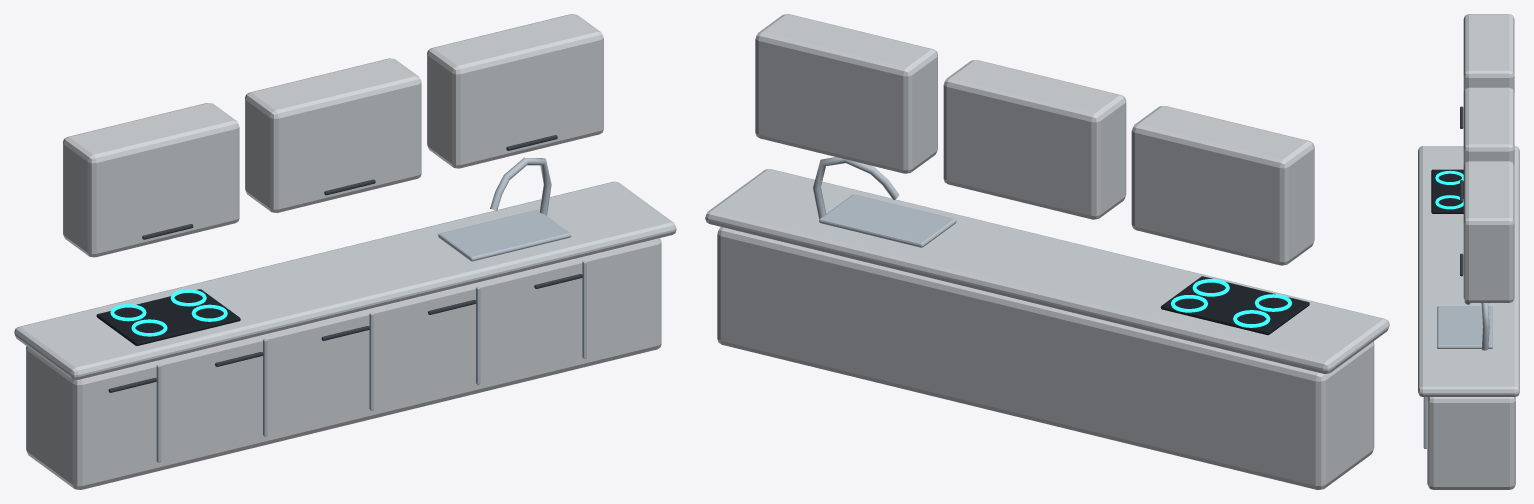
The model's file is office-kitchen.glb.
The picture shows the model from 3 angles, left to right: view 1: azimuth 30°, elevation 25°; view 2: azimuth 150°, elevation 25°; view 3: azimuth 270°, elevation 25°; orthographic projection. The views are drawn at different scales.
Parts seen in each view (by area): view 1: kitchen · Warm white, kitchen · Quartz stone, kitchen · Brushed aluminum, kitchen · Soft black, kitchen · Graphite metal, kitchen · Status cyan; view 2: kitchen · Warm white, kitchen · Quartz stone, kitchen · Brushed aluminum, kitchen · Soft black, kitchen · Status cyan; view 3: kitchen · Warm white, kitchen · Quartz stone, kitchen · Brushed aluminum, kitchen · Soft black, kitchen · Status cyan, kitchen · Graphite metal.
Part boxes in pixels (box(x1,y1,x2,y2)): kitchen · Warm white: box(26, 14, 661, 489); kitchen · Quartz stone: box(14, 181, 676, 379); kitchen · Brushed aluminum: box(156, 157, 586, 462); kitchen · Soft black: box(96, 289, 240, 345); kitchen · Graphite metal: box(108, 135, 582, 392); kitchen · Status cyan: box(110, 289, 227, 336); kitchen · Warm white: box(717, 14, 1374, 489); kitchen · Quartz stone: box(705, 169, 1389, 373); kitchen · Brushed aluminum: box(813, 157, 956, 247); kitchen · Soft black: box(1160, 276, 1309, 335); kitchen · Status cyan: box(1171, 279, 1291, 327); kitchen · Warm white: box(1427, 14, 1515, 489); kitchen · Quartz stone: box(1418, 146, 1519, 396); kitchen · Brushed aluminum: box(1423, 301, 1492, 448); kitchen · Soft black: box(1431, 169, 1463, 213); kitchen · Status cyan: box(1435, 170, 1463, 209); kitchen · Graphite metal: box(1460, 106, 1463, 276).
Bounding box in the file's own units: 4.32 × 2.12 × 0.76.
